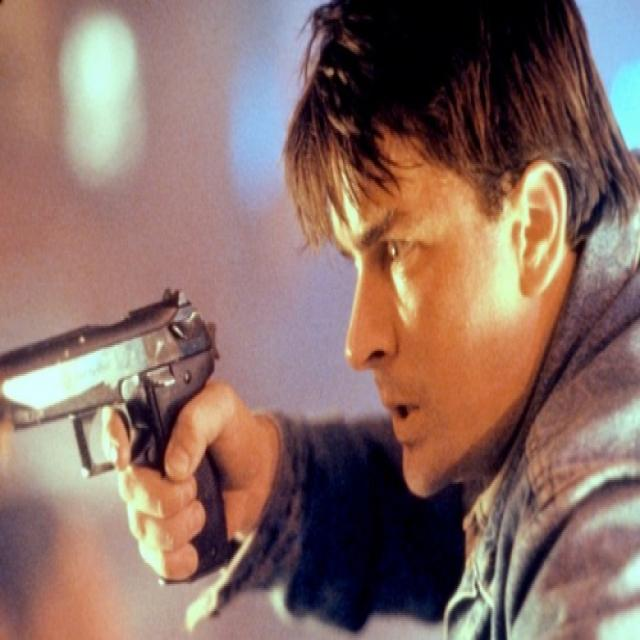weapons: (4, 280, 235, 596)
